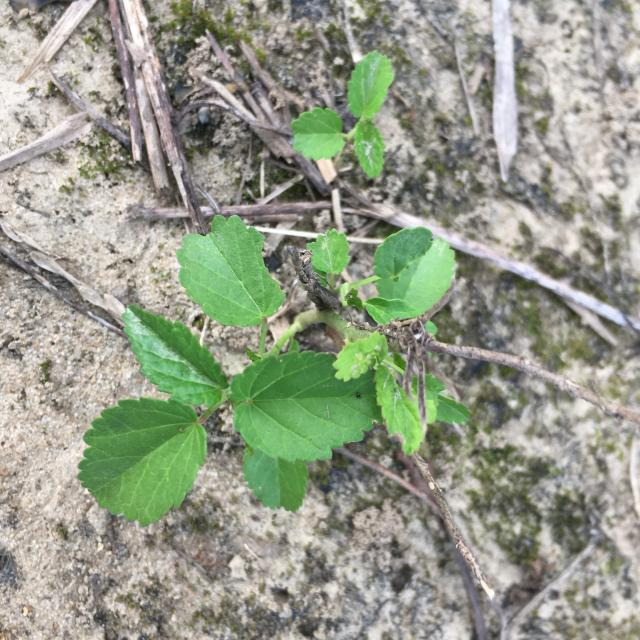PricklySida: (76, 215, 470, 528), (291, 50, 395, 179)
